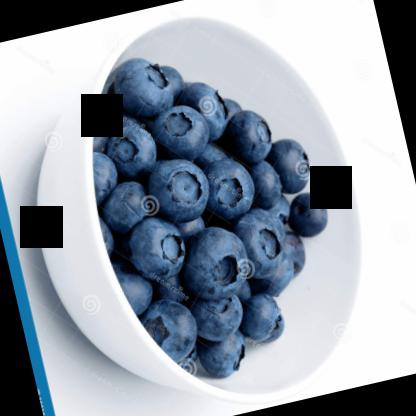blueberry: (174, 221, 254, 305), (121, 212, 193, 286), (141, 156, 212, 229), (102, 54, 174, 122), (140, 291, 202, 367), (236, 208, 291, 280), (184, 286, 252, 344), (215, 105, 276, 169), (200, 156, 258, 220), (150, 102, 212, 160), (105, 120, 162, 178), (230, 290, 286, 347), (282, 192, 333, 244), (197, 330, 248, 381), (267, 137, 314, 192)
